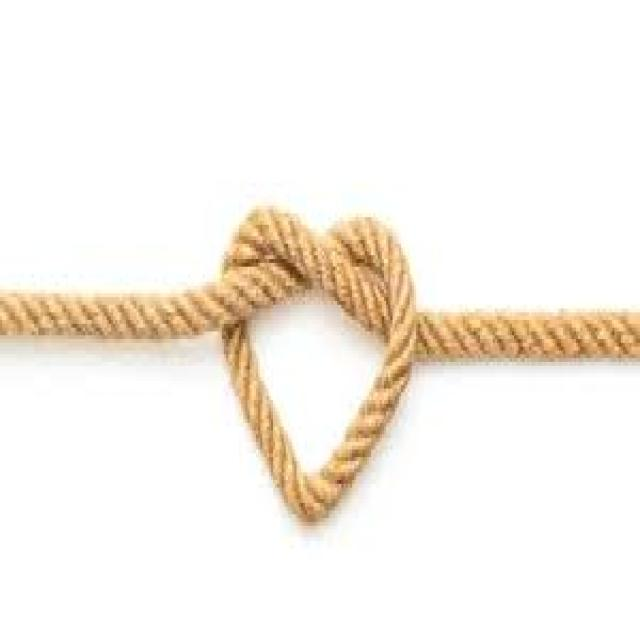Rope: (0, 173, 640, 516)
